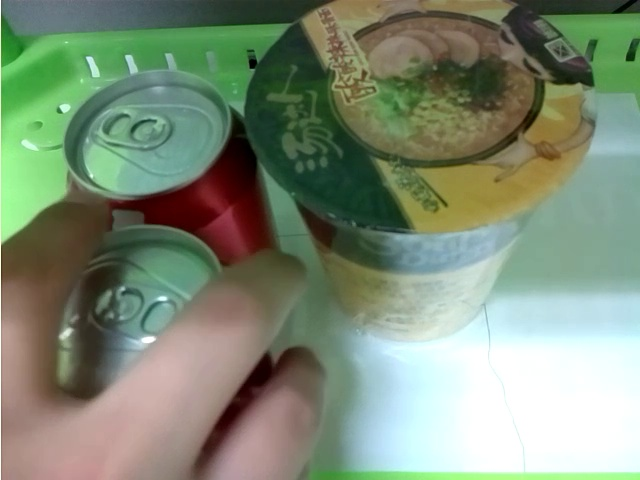cocacola: (62, 68, 284, 264), (56, 228, 218, 376)
hand: (3, 190, 327, 480)
noodles: (230, 1, 601, 347)
